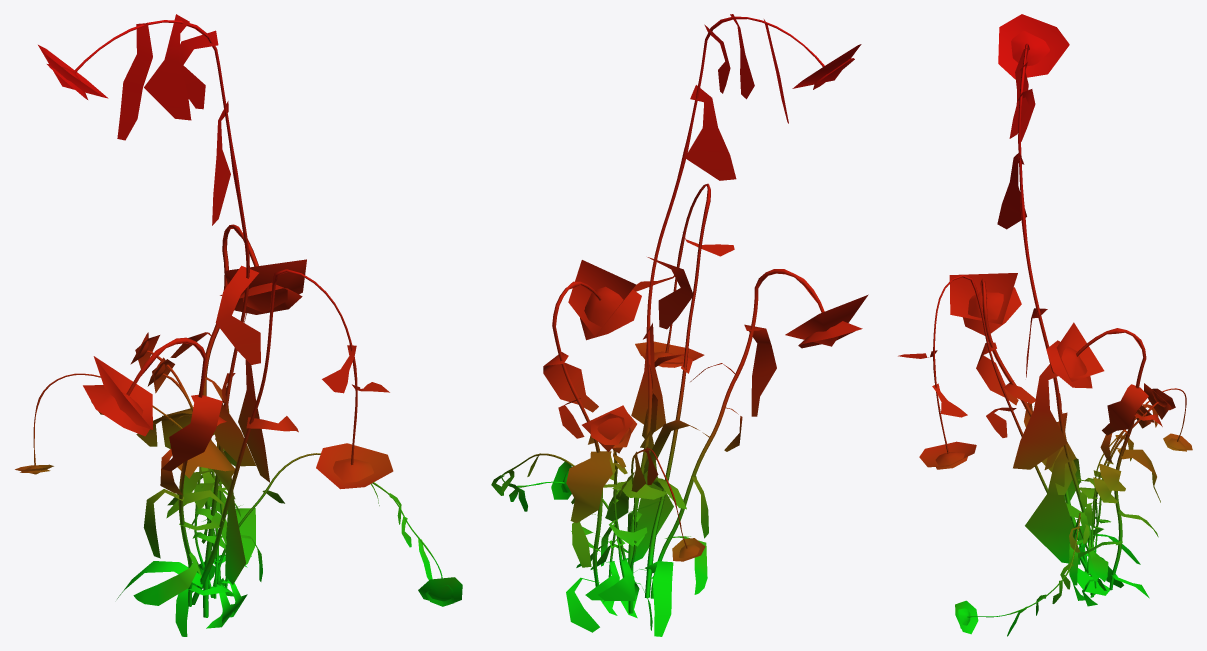
File: Crownbeard_LOD1_Var8_tefoajkr.fbx
3 renders of one model, left to right at view 1: azimuth 30°, elevation 25°; view 2: azimuth 150°, elevation 25°; view 3: azimuth 270°, elevation 25°, orthographic. The views are drawn at different scales.
Visible parts, largest first — view 1: _6425_Var8_LOD1; view 2: _6425_Var8_LOD1; view 3: _6425_Var8_LOD1.
Part boxes in pixels (x1,y1,x2,y2): _6425_Var8_LOD1: (15, 14, 462, 636); _6425_Var8_LOD1: (491, 14, 868, 636); _6425_Var8_LOD1: (898, 14, 1192, 636).
Size of the model in its own units: 27.72 by 46.27 by 23.93.
